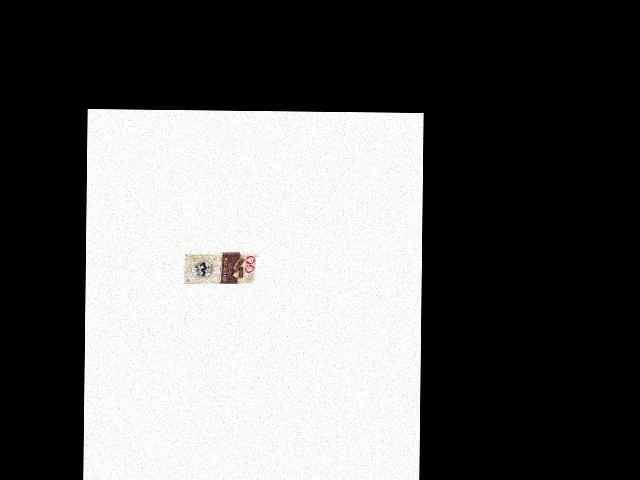chocolate: (183, 245, 258, 286)
